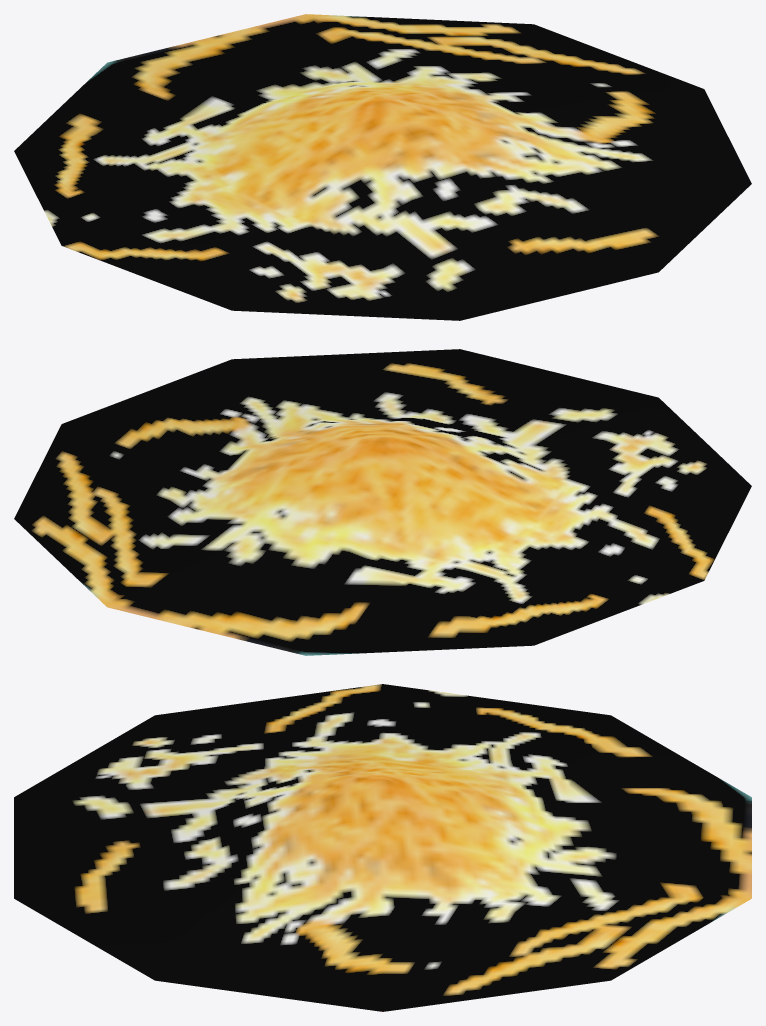
File: CheeseShredded_V1.fbx
3 views of the same model, one above another, from view 1: azimuth 30°, elevation 25°; view 2: azimuth 150°, elevation 25°; view 3: azimuth 270°, elevation 25° (orthographic). The views are drawn at different scales.
Parts seen in each view (by area): view 1: CheeseShredded_V1; view 2: CheeseShredded_V1; view 3: CheeseShredded_V1.
Boxes of the visible parts, left/top/right/bottom form: CheeseShredded_V1: left=14, top=14, right=751, bottom=320; CheeseShredded_V1: left=14, top=349, right=751, bottom=655; CheeseShredded_V1: left=14, top=684, right=751, bottom=1011.
Bounding box in the file's own units: 0.3385 × 0.0326 × 0.322.
